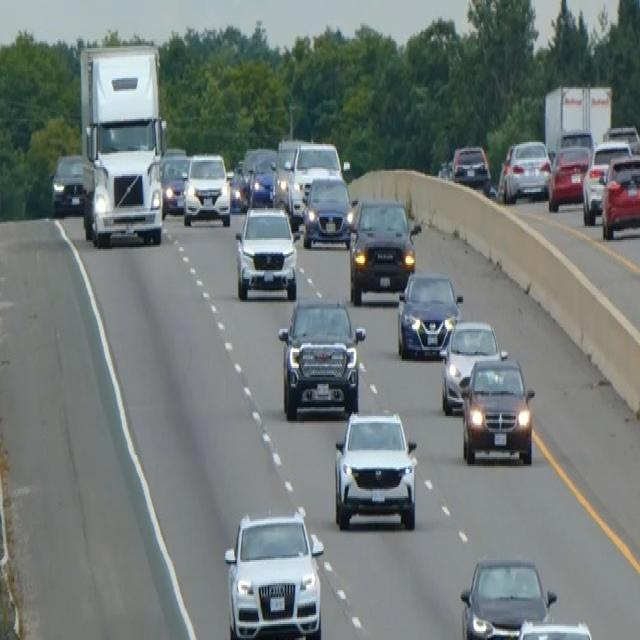car: (223, 510, 324, 638), (277, 294, 365, 419), (333, 409, 417, 530), (460, 350, 535, 466), (459, 555, 556, 638), (348, 196, 419, 304), (234, 202, 298, 300), (440, 318, 503, 414), (396, 269, 462, 359), (286, 140, 342, 226), (582, 139, 631, 224), (302, 172, 355, 249), (182, 151, 231, 226), (499, 137, 551, 203), (600, 153, 639, 240), (547, 142, 590, 212), (50, 151, 85, 215), (451, 142, 491, 190), (160, 153, 190, 215), (272, 137, 299, 204), (513, 617, 594, 638), (242, 144, 276, 190), (248, 155, 276, 206), (602, 122, 639, 154), (229, 162, 249, 212), (558, 126, 593, 151)
lorry: (78, 41, 166, 247)
